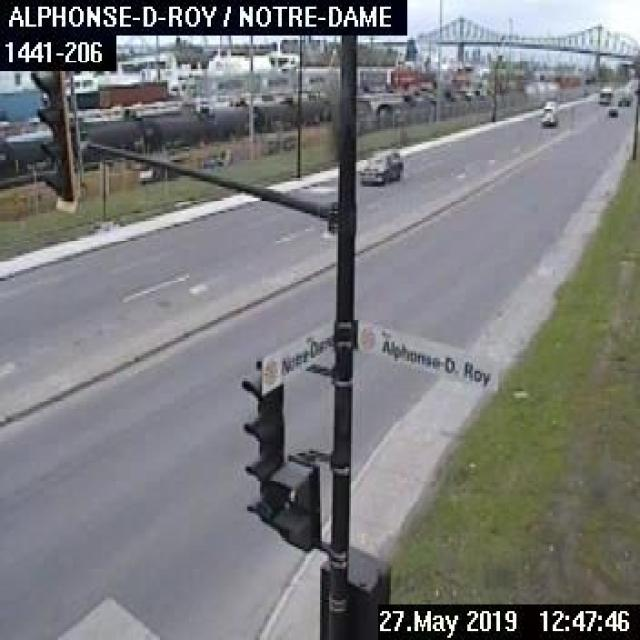vehicle: (358, 146, 402, 184), (538, 104, 555, 124), (596, 84, 612, 105), (615, 89, 631, 108), (600, 104, 620, 118)
